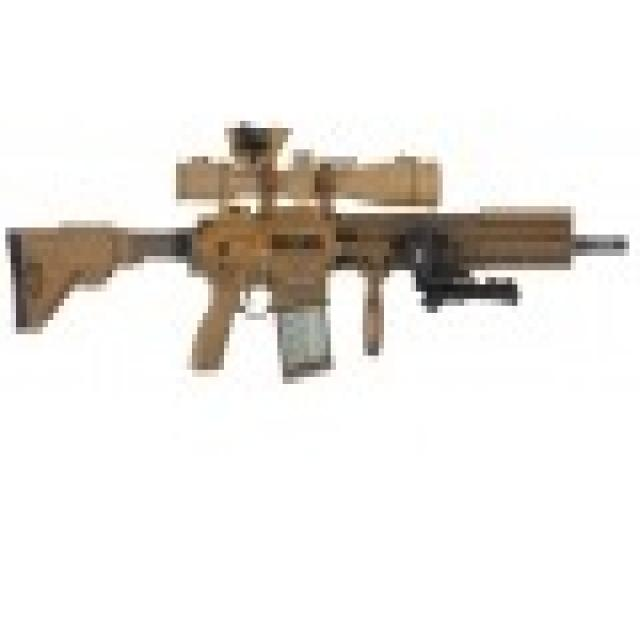Gun: (0, 96, 640, 407)
